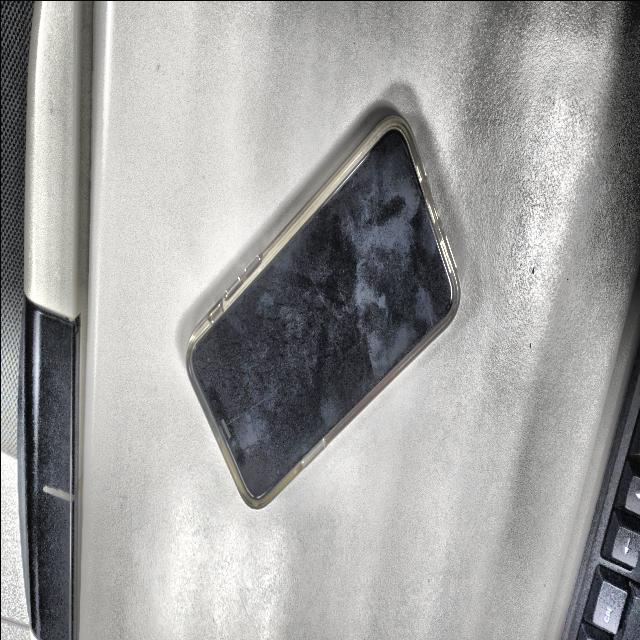PHONE: (186, 113, 459, 506)
